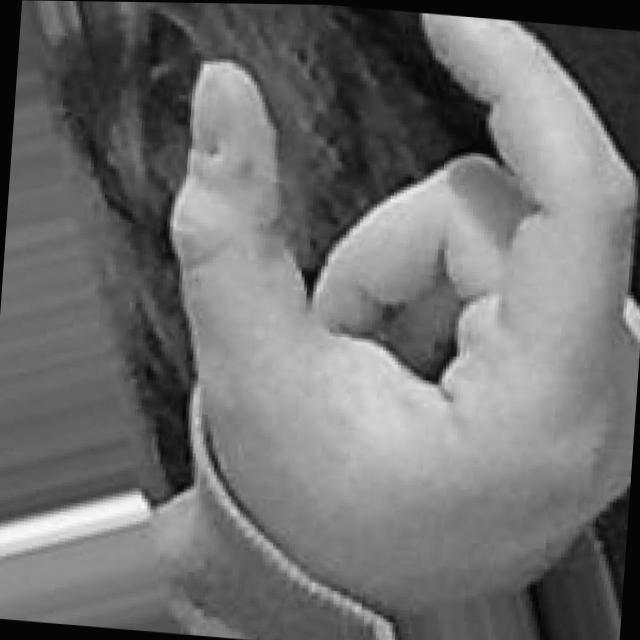U: (133, 2, 640, 634)
